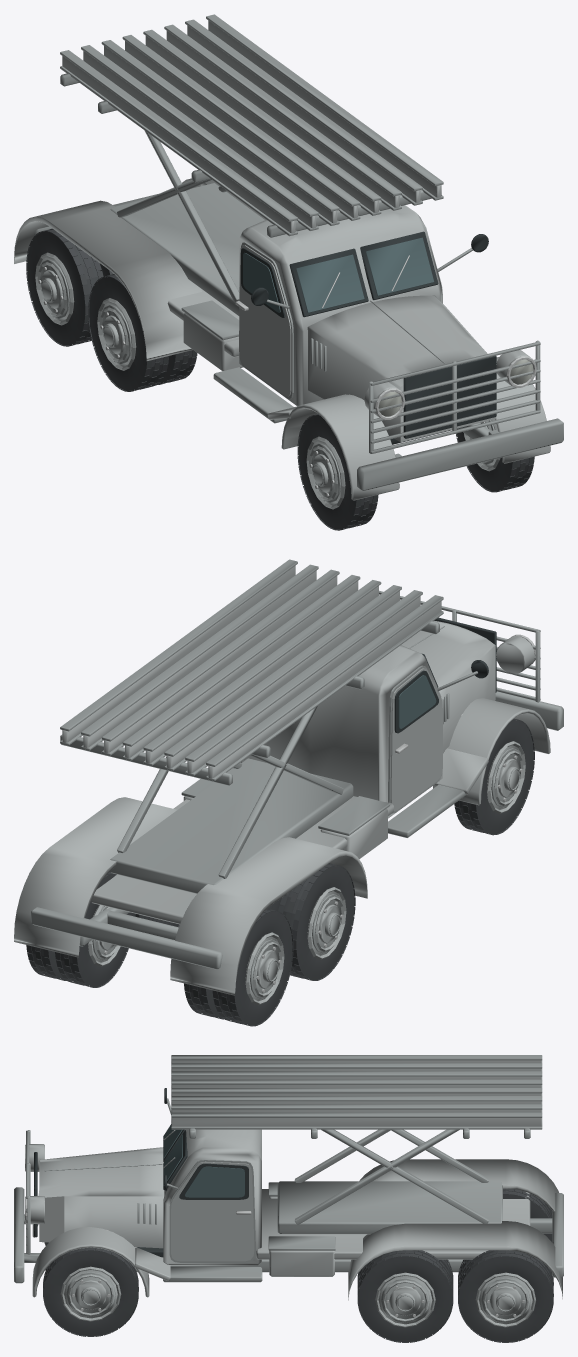
3 views of the same model, one above another, from view 1: azimuth 30°, elevation 25°; view 2: azimuth 150°, elevation 25°; view 3: azimuth 270°, elevation 25° (orthographic). The views are drawn at different scales.
Parts seen in each view (by area): view 1: BM13_Crowned_Tapered_Hood, BM13_Continuous_Rear_Fender, BM13_Integrated_Curved_Cab, BM13_Rack_Closed_Base, BM13_Front_Bumper, BM13_Front_Fender, BM13_PGF_Tire.007, BM13_Contoured_Door_Face, BM13_Radiator_Dark_Face, BM13_PGF_Tire.003, BM13_PGF_Tire, BM13_Sloped_Windscreen_Glass (+38 smaller); view 2: BM13_Rack_Closed_Base, BM13_Continuous_Rear_Fender, BM13_Integrated_Curved_Cab, BM13_Continuous_Rear_Fender.001, BM13_Crowned_Tapered_Hood, BM13_PGF_Tire.003, BM13_Contoured_Door_Face, BM13_Rear_Deck, BM13_Front_Fender, BM13_Rear_Bumper, BM13_PGF_Tire.007, BM13_PGF_Tire (+36 smaller); view 3: BM13_Crowned_Tapered_Hood, BM13_Rack_Closed_Base, BM13_Continuous_Rear_Fender.001, BM13_Contoured_Door_Face.001, BM13_PGF_Tire.005, BM13_PGF_Tire.009, BM13_PGF_Tire.001, BM13_Integrated_Curved_Cab, BM13_Continuous_Rear_Fender, BM13_Empty_Art_Rail.007, BM13_Rear_Deck, BM13_Front_Fender.001 (+48 smaller).
Part boxes in pixels (x1,y1,x2,y2): BM13_Crowned_Tapered_Hood: (307,295,496,442); BM13_Continuous_Rear_Fender: (14,200,202,360); BM13_Integrated_Curved_Cab: (239,205,442,406); BM13_Rack_Closed_Base: (110,183,264,315); BM13_Front_Bumper: (357,418,563,491); BM13_Front_Fender: (281,394,399,500); BM13_PGF_Tire.007: (26,228,103,346); BM13_Contoured_Door_Face: (239,245,291,396); BM13_Radiator_Dark_Face: (403,356,496,438); BM13_PGF_Tire.003: (88,274,169,391); BM13_PGF_Tire: (297,414,378,530); BM13_Sloped_Windscreen_Glass: (296,254,364,312); BM13_Rack_Closed_Base: (110,758,353,893); BM13_Continuous_Rear_Fender: (170,837,367,995); BM13_Integrated_Curved_Cab: (240,645,442,818); BM13_Continuous_Rear_Fender.001: (14,797,176,957); BM13_Crowned_Tapered_Hood: (401,621,495,751); BM13_PGF_Tire.003: (278,863,355,980); BM13_Contoured_Door_Face: (390,668,442,810); BM13_Rear_Deck: (91,796,393,924); BM13_Front_Fender: (433,698,550,805); BM13_Rear_Bumper: (31,907,222,969); BM13_PGF_Tire.007: (212,908,293,1026); BM13_PGF_Tire: (454,718,534,835); BM13_Crowned_Tapered_Hood: (38,1147,164,1248); BM13_Rack_Closed_Base: (277,1181,502,1234); BM13_Continuous_Rear_Fender.001: (348,1221,562,1300); BM13_Contoured_Door_Face.001: (171,1161,254,1261); BM13_PGF_Tire.005: (357,1250,453,1342); BM13_PGF_Tire.009: (458,1250,553,1342); BM13_PGF_Tire.001: (43,1247,138,1336); BM13_Integrated_Curved_Cab: (163,1129,261,1265); BM13_Continuous_Rear_Fender: (359,1159,558,1211); BM13_Empty_Art_Rail.007: (171,1118,542,1126); BM13_Rear_Deck: (256,1189,530,1259); BM13_Front_Fender.001: (32,1227,149,1297).
Bounding box in the file's own units: 3.64 × 3.93 × 9.04.
